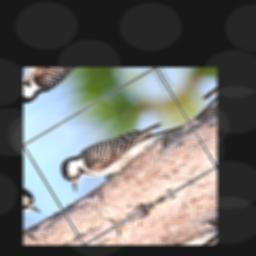Woodpecker: (52, 95, 194, 203)
